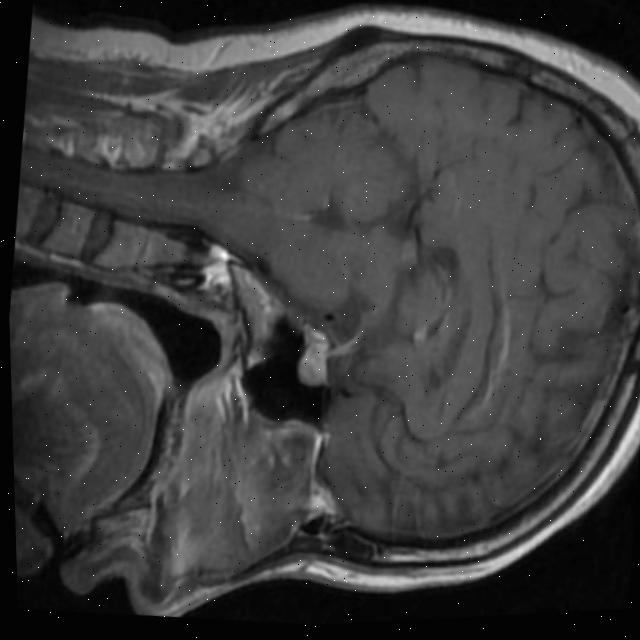Pituitary: (293, 322, 336, 390)
